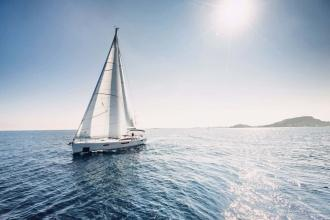fanchuan: (66, 14, 152, 159)
